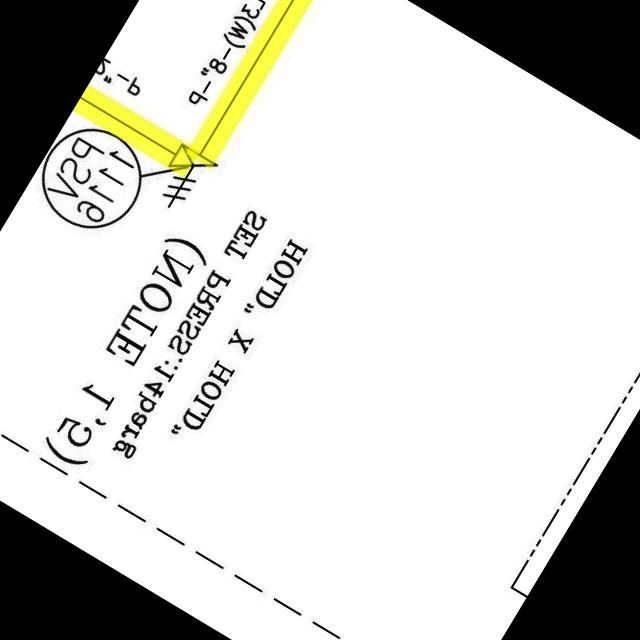RPV: (142, 132, 227, 226)
